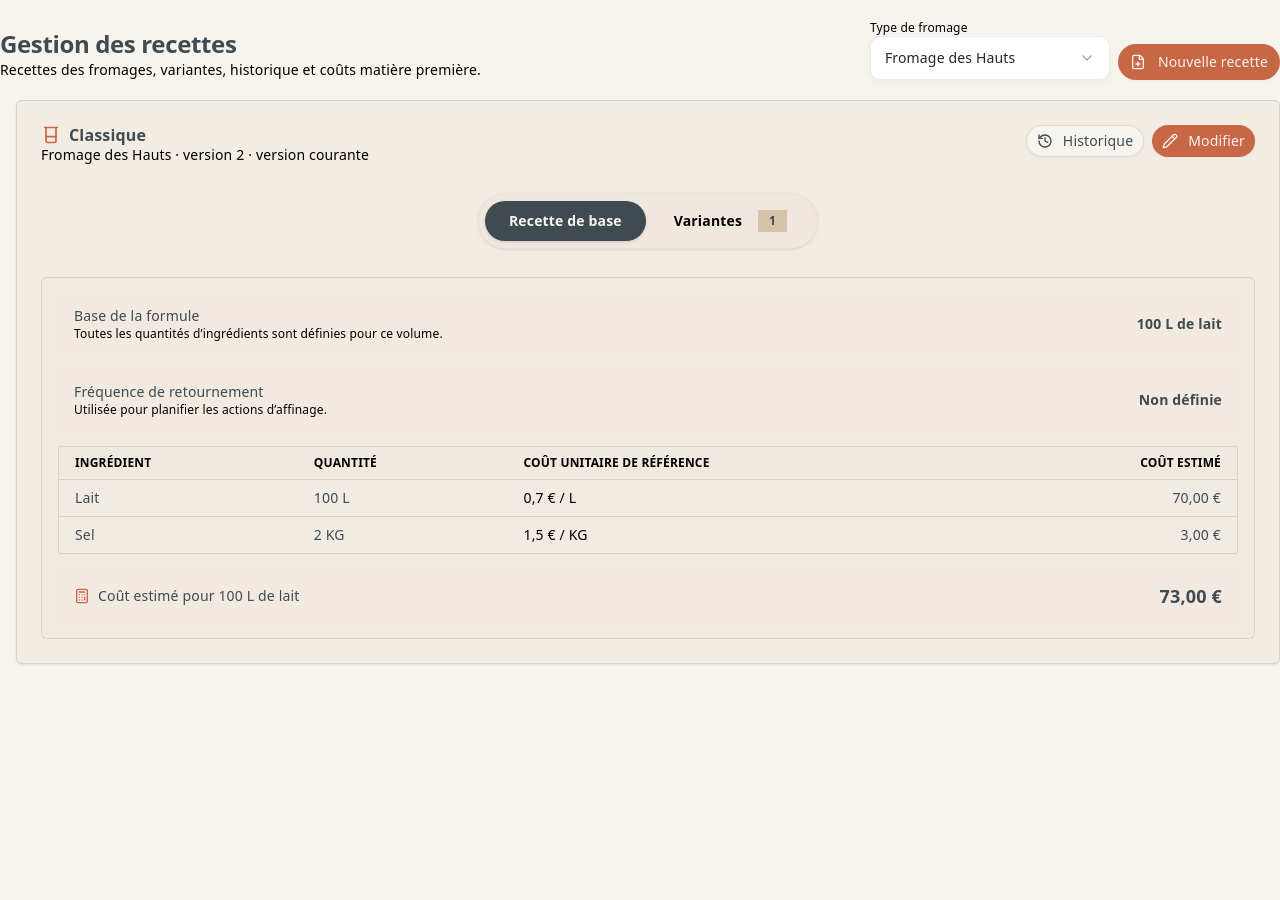
Test case: gestion des recettes › charge et affiche l’historique réellement renvoyé
Click the button "Historique".
click(1085, 141)  # box [1026, 125, 1144, 157]
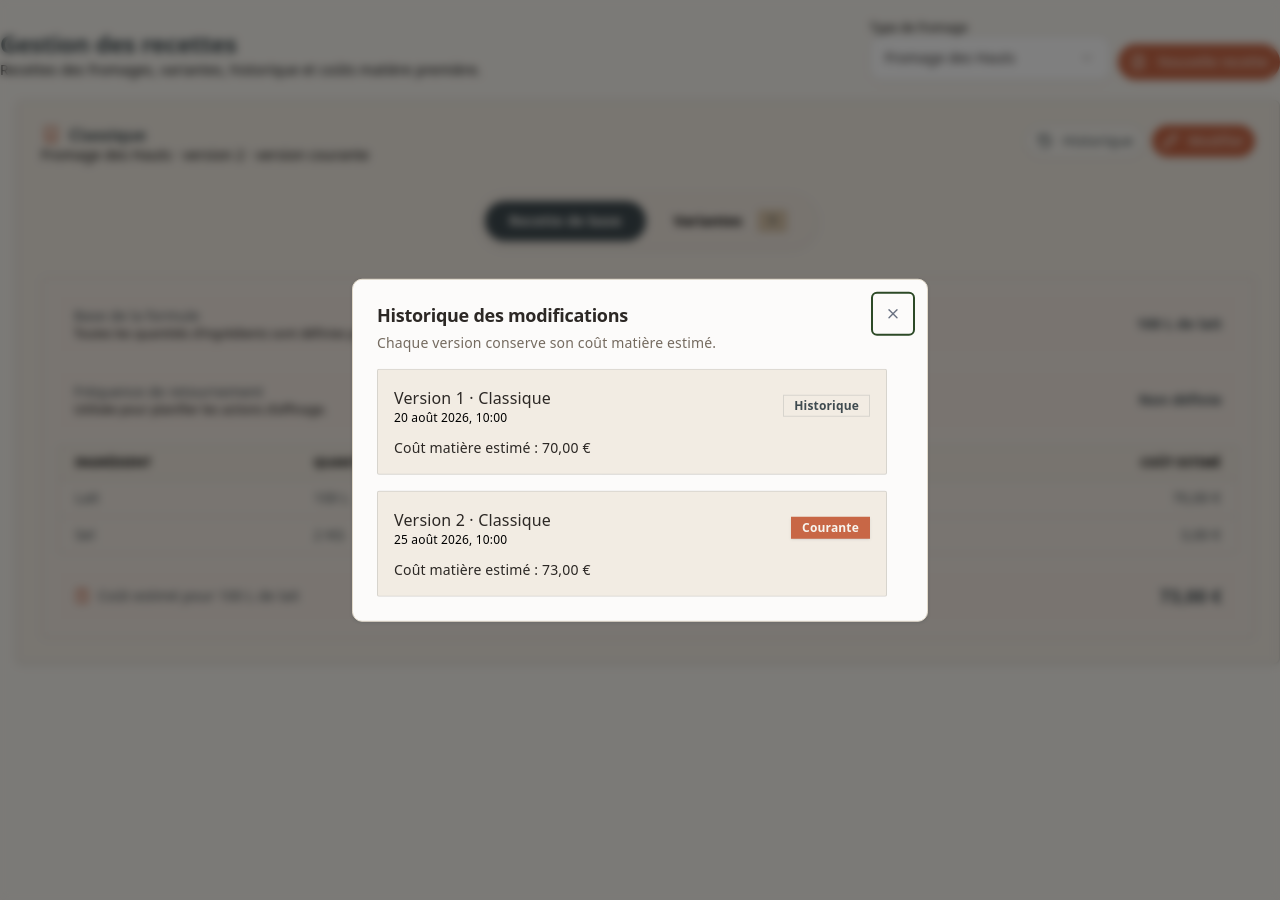
Check: the text "Version 1 · Classique" is shown, box [394, 385, 551, 409]
Check: the text "Courante" is shown, box [791, 516, 870, 538]
